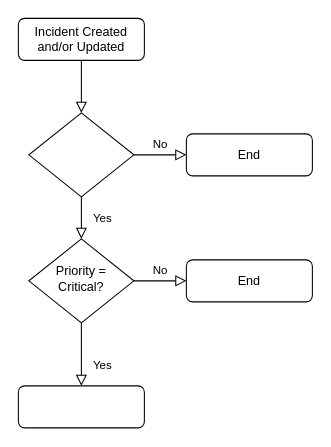
This 331x447 diagram has some shape labels left out. Each missing label, with the centre of its shape:
Category = Network?: the point at 81,154
Send Email Notification to Network Operations: the point at 80,406
